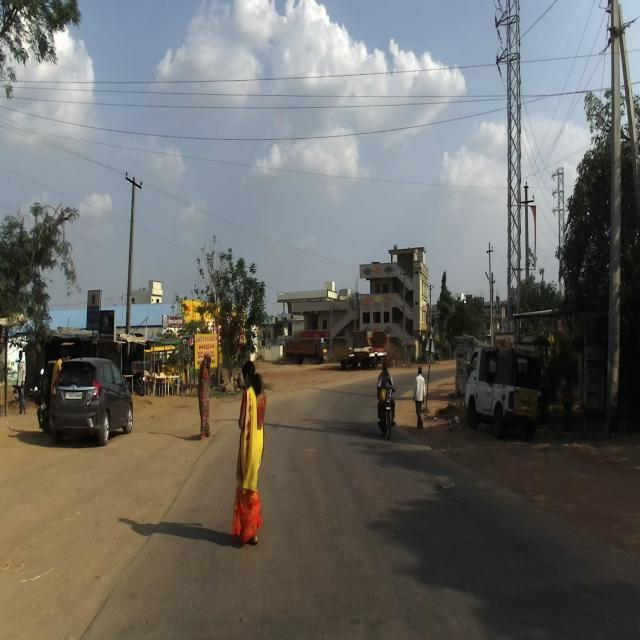car: (40, 356, 133, 446)
motorcycle: (377, 383, 397, 439)
truck: (463, 345, 542, 440)
